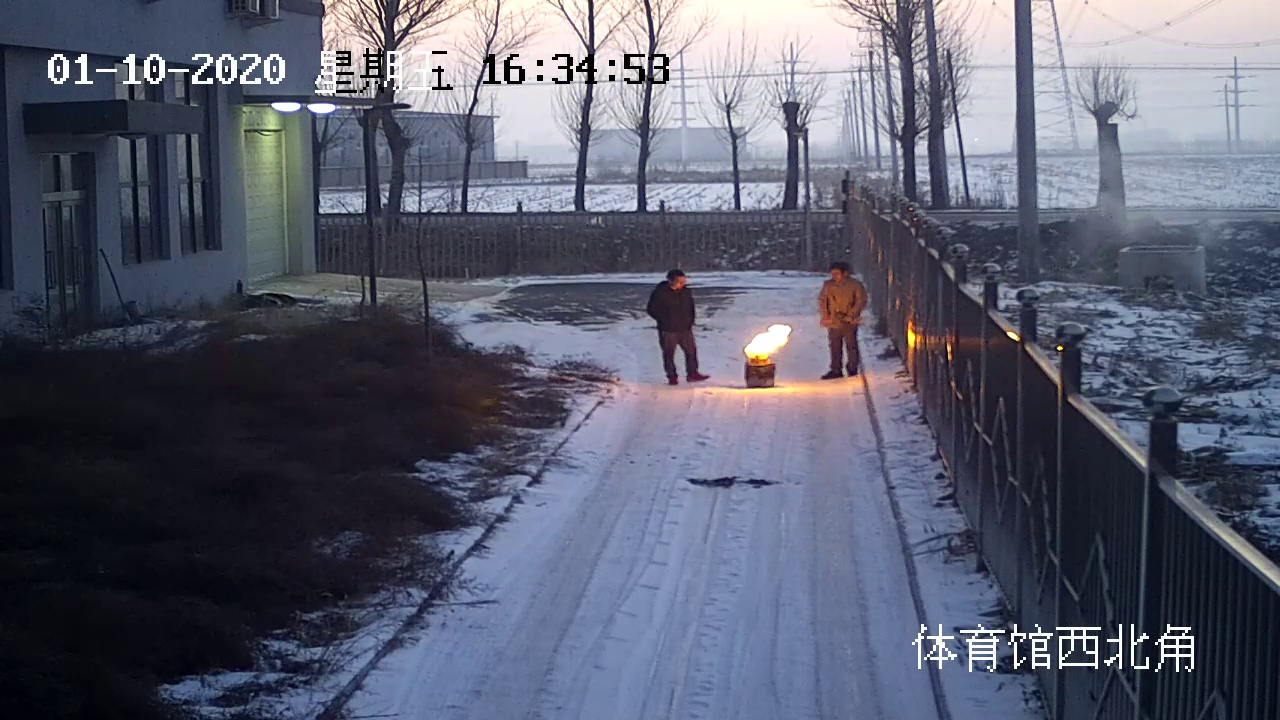fire: (740, 321, 793, 361)
